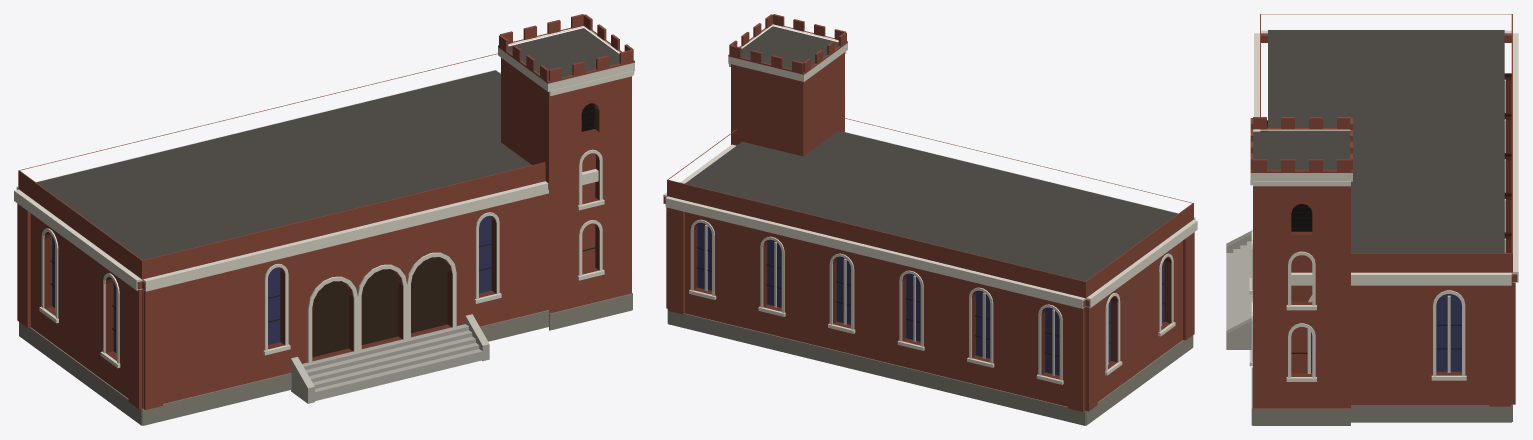
The model's file is ch-central-missionary-baptist-1913.glb.
3 views of the same model, side by side, from view 1: azimuth 30°, elevation 25°; view 2: azimuth 150°, elevation 25°; view 3: azimuth 270°, elevation 25° (orthographic). The views are drawn at different scales.
Visible parts, largest first — view 1: kit-ch-central-missionary-baptist-1913; view 2: kit-ch-central-missionary-baptist-1913; view 3: kit-ch-central-missionary-baptist-1913.
Part boxes in pixels (x1,y1,x2,y2): kit-ch-central-missionary-baptist-1913: (14,14,634,425); kit-ch-central-missionary-baptist-1913: (663,14,1197,425); kit-ch-central-missionary-baptist-1913: (1226,14,1518,425).
Size of the model in its own units: 25.03 by 12.7 by 12.56.
